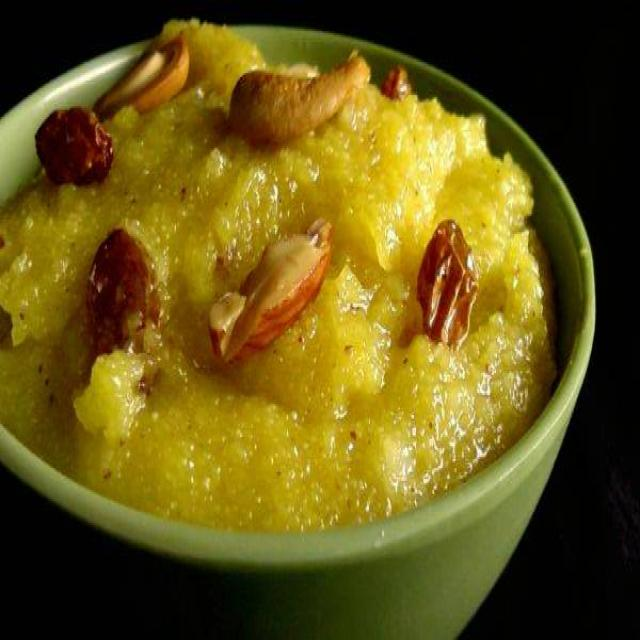kesari bath: (0, 2, 565, 565)
